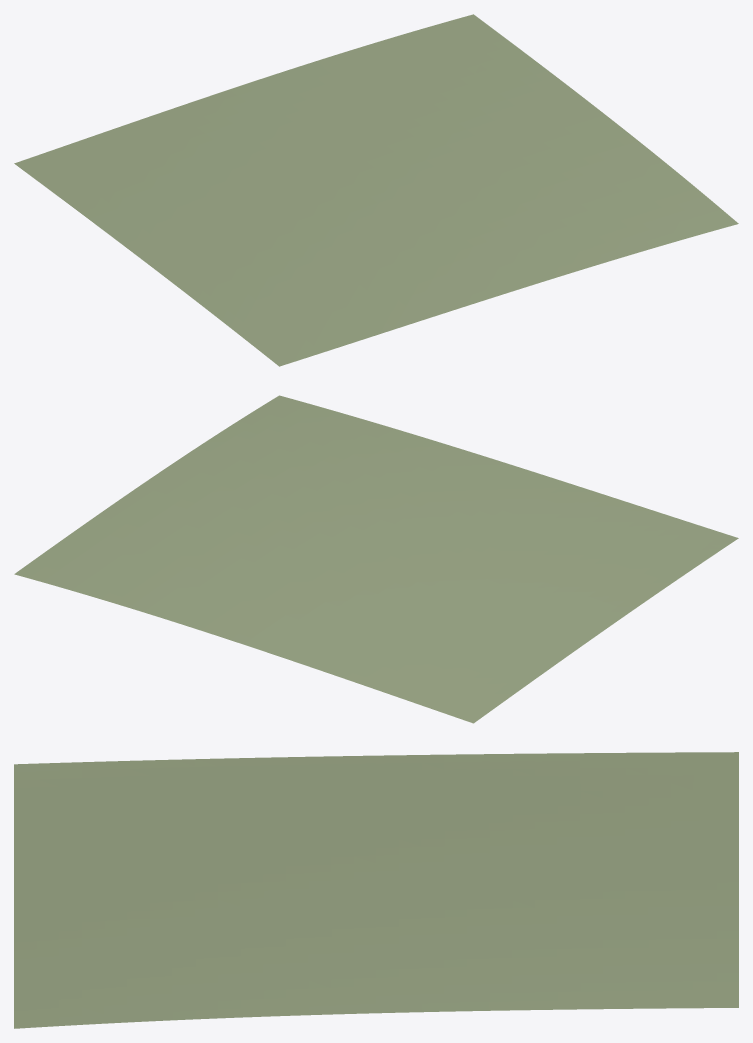
File: valley-1-6.glb
3 renders of one model, top to bottom at view 1: azimuth 30°, elevation 25°; view 2: azimuth 150°, elevation 25°; view 3: azimuth 270°, elevation 25°, orthographic. The views are drawn at different scales.
Visible parts, largest first — view 1: valley-1-6; view 2: valley-1-6; view 3: valley-1-6.
Boxes of the visible parts, bbox=[...] form: valley-1-6: bbox=[14, 14, 738, 366]; valley-1-6: bbox=[14, 395, 738, 723]; valley-1-6: bbox=[14, 752, 738, 1028].
Size of the model in its own units: 256 by 24.46 by 256.
